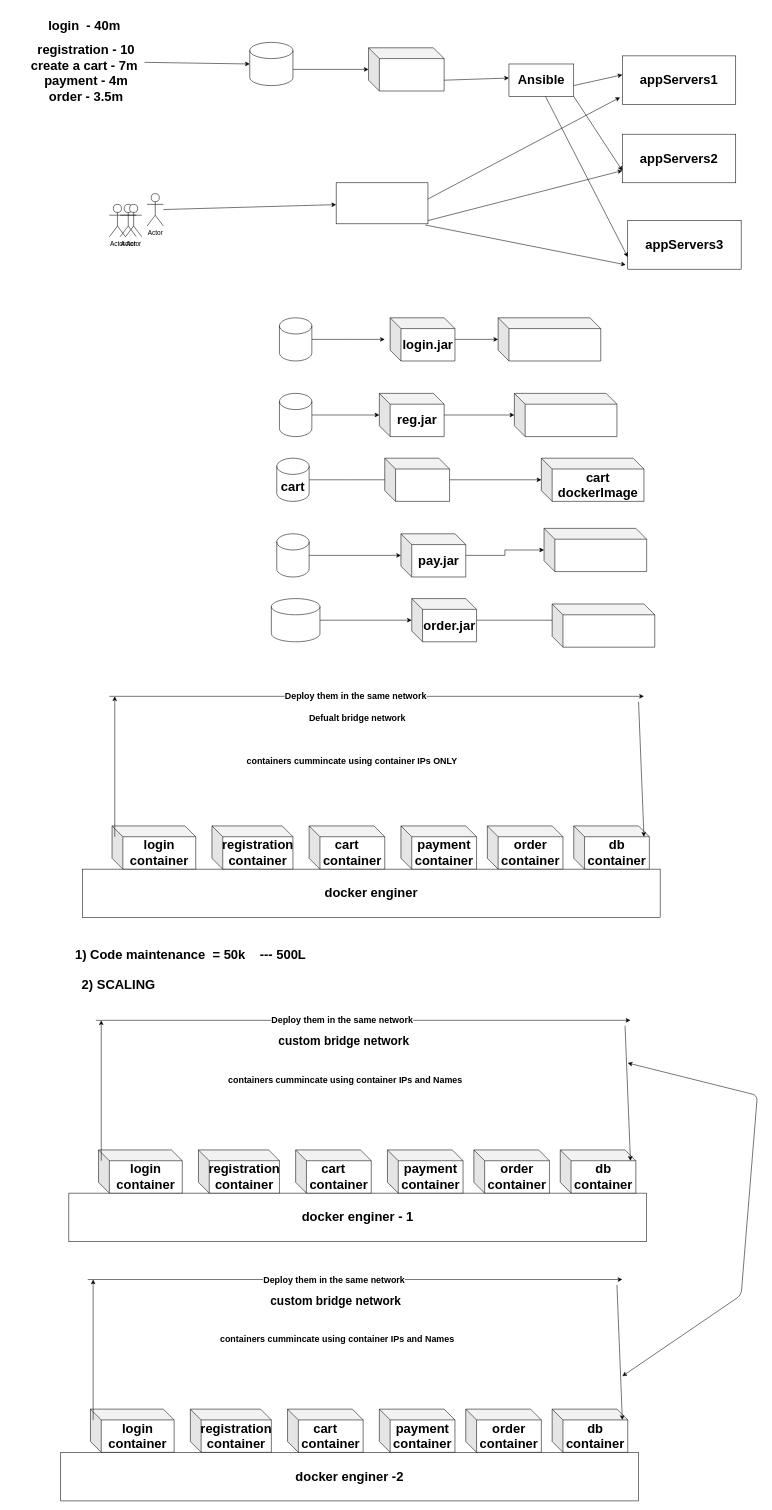
This 772x1510 diagram has some shape labels left out. The shapes that lost their labels are listed below. From the top down, each one's box as (x1, y1, x2, y2) in pixels, then its label:
(249, 42, 293, 86): git
(368, 47, 444, 91): ebay.war
(336, 182, 428, 224): LB/Web Server
(279, 317, 312, 361): login
(498, 317, 601, 361): login dockerImage
(279, 393, 312, 437): reg
(514, 393, 617, 437): reg dockerImage
(384, 458, 450, 501): cart.jar
(276, 533, 309, 577): pay
(544, 528, 647, 572): pay dockerImage
(271, 598, 320, 642): orders
(552, 603, 655, 647): order dockerImage
